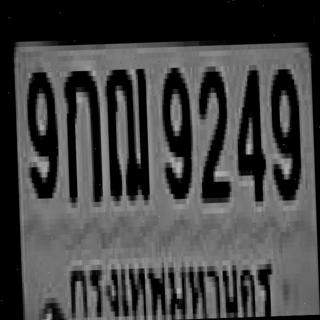A01: (61, 65, 101, 198)
A12: (102, 58, 147, 196)
N02: (196, 61, 228, 198)
N04: (233, 59, 265, 197)
N09: (24, 62, 58, 194), (158, 62, 190, 194), (268, 64, 300, 195)
P04: (63, 245, 276, 320)
